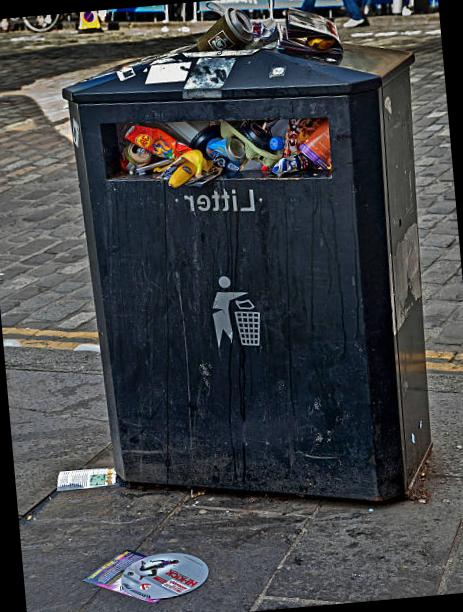trash: (85, 84, 360, 200), (79, 532, 223, 612), (182, 2, 274, 65), (153, 39, 240, 103), (92, 42, 170, 104), (46, 448, 128, 501), (283, 15, 343, 58)
trash_can_overflow: (12, 0, 463, 575)
